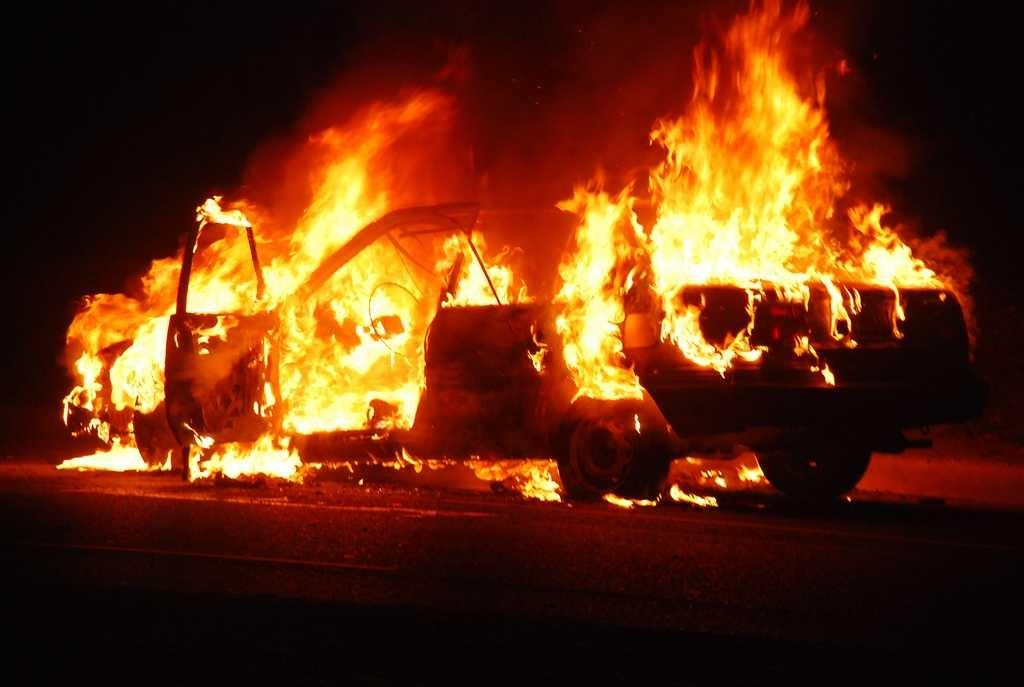fire: (658, 210, 793, 283), (290, 313, 370, 427), (695, 117, 795, 203), (115, 340, 175, 415), (302, 193, 375, 253)
